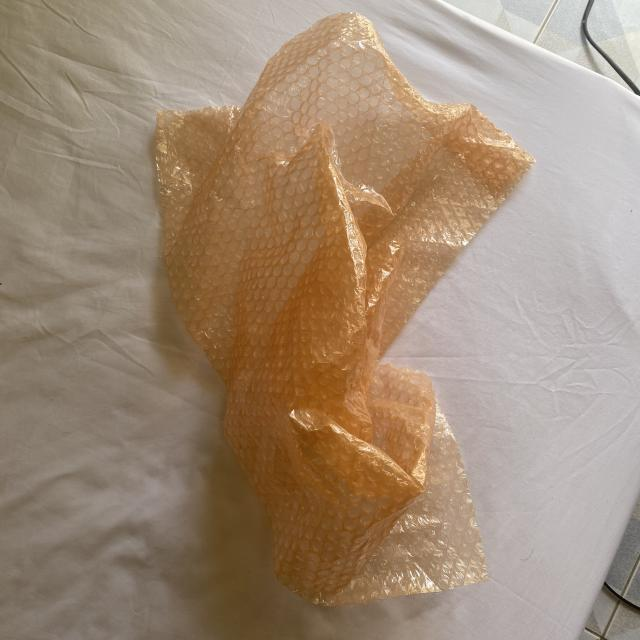Single-layer Plastic: (153, 13, 534, 608)
